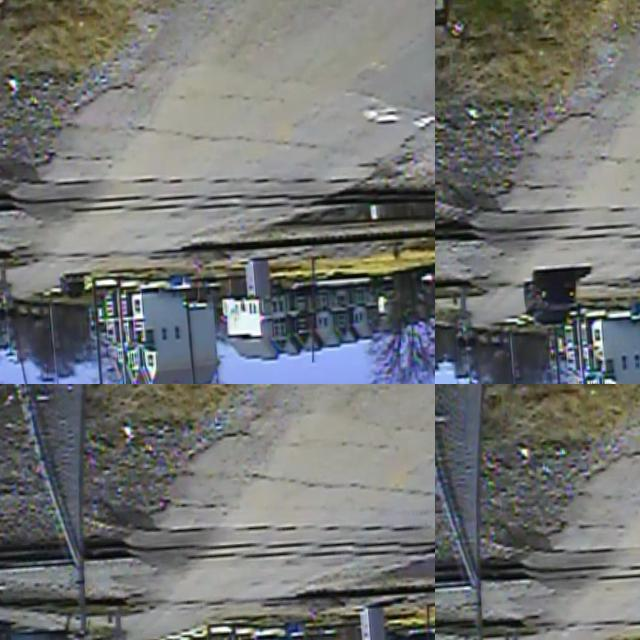barrier: (3, 326, 39, 384), (469, 352, 493, 384)
car: (518, 256, 588, 336), (54, 269, 92, 306)
rails: (0, 497, 435, 602), (0, 161, 435, 265), (0, 205, 435, 305), (0, 552, 435, 640), (435, 517, 640, 624), (435, 177, 640, 277), (435, 238, 640, 323), (435, 581, 640, 640)
traffic-signal: (450, 285, 488, 353), (0, 261, 26, 328), (102, 599, 142, 640), (491, 619, 539, 640)
